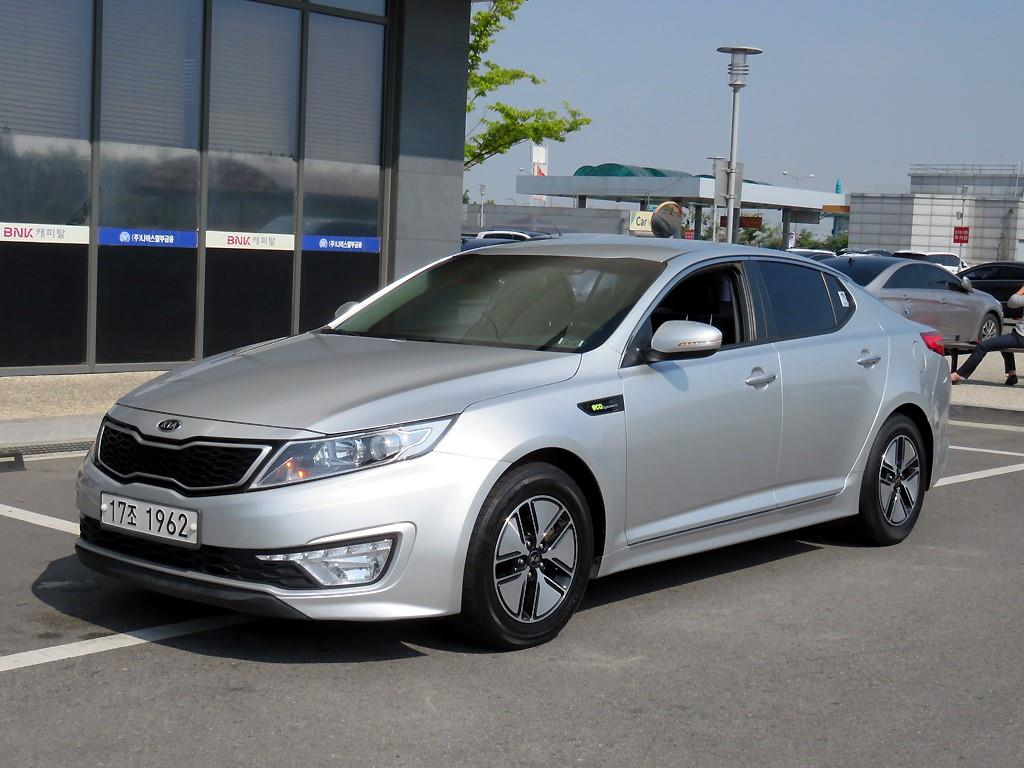plate: (102, 494, 197, 543)
